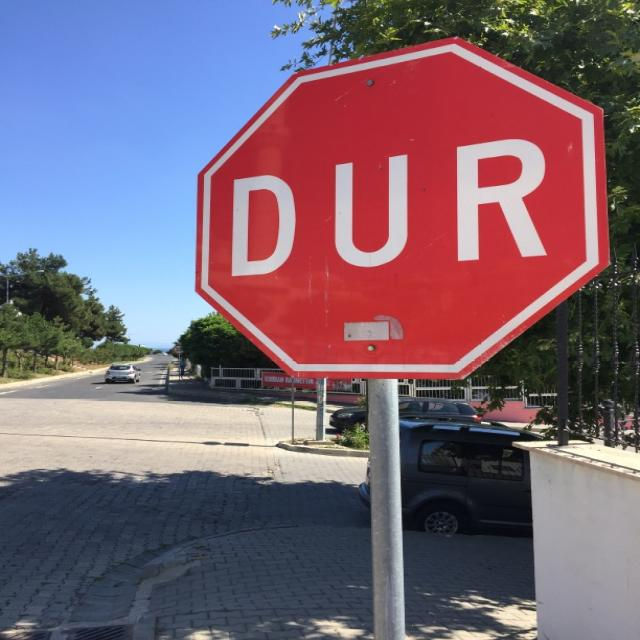dur: (195, 37, 610, 379)
